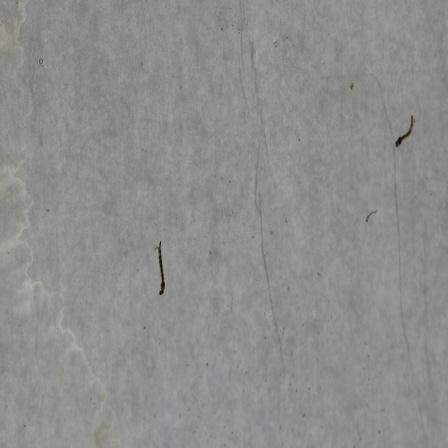Jentik-Nyamuk: (394, 113, 417, 151), (155, 239, 170, 297)
